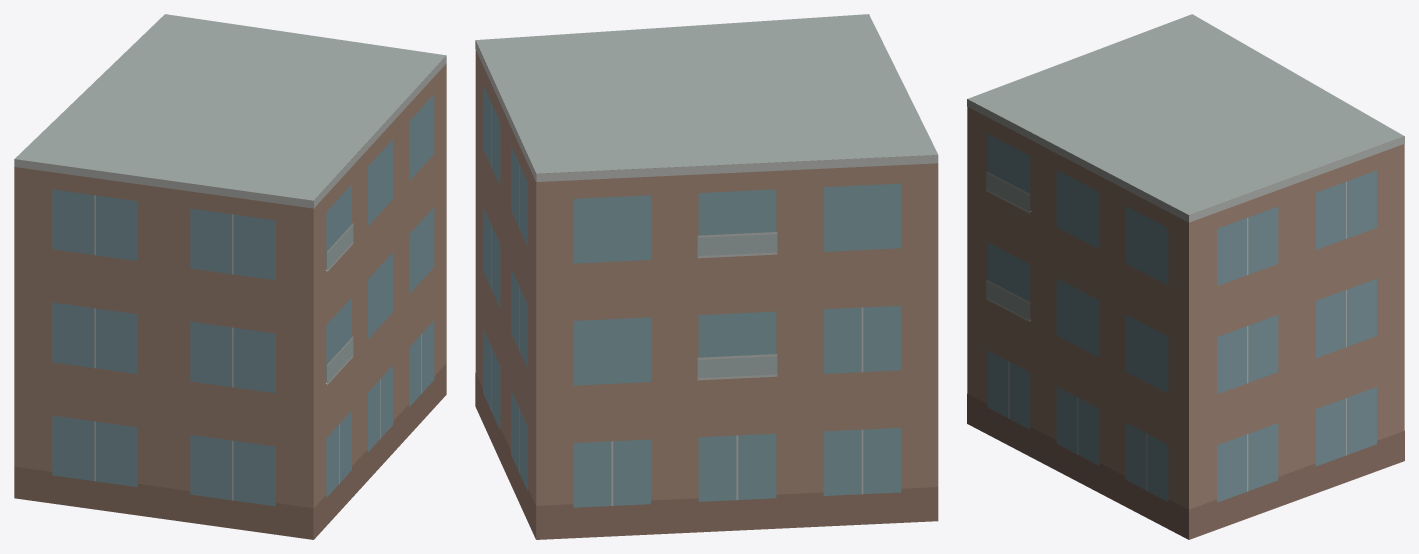
The model's file is survey-upis-32837964.glb.
3 views of the same model, side by side, from view 1: azimuth 30°, elevation 25°; view 2: azimuth 150°, elevation 25°; view 3: azimuth 270°, elevation 25° (orthographic). The views are drawn at different scales.
Parts seen in each view (by area): view 1: survey-upis-32837964.tmp; view 2: survey-upis-32837964.tmp; view 3: survey-upis-32837964.tmp.
Boxes of the visible parts, bbox=[...] form: survey-upis-32837964.tmp: bbox=[14, 14, 446, 539]; survey-upis-32837964.tmp: bbox=[475, 14, 938, 539]; survey-upis-32837964.tmp: bbox=[967, 14, 1404, 539].
Bounding box in the file's own units: 13.95 × 10.5 × 12.83.
